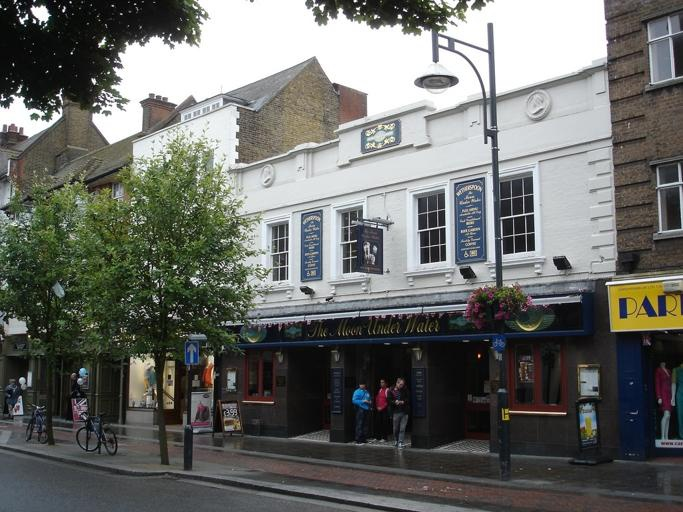non-vehicle: (75, 406, 117, 456), (22, 399, 50, 444)
